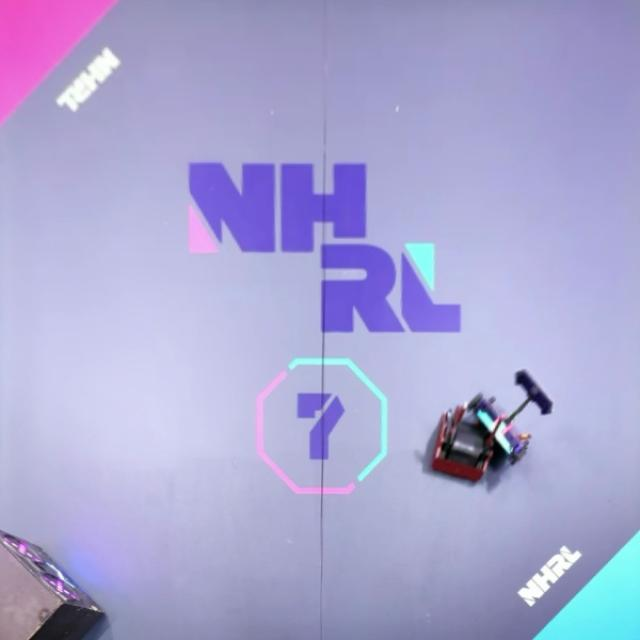housebot: (0, 529, 107, 640)
robot: (469, 369, 554, 472), (431, 412, 489, 482)
